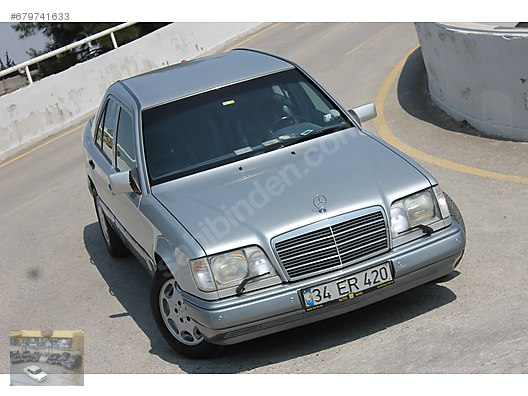mercedes: (83, 45, 469, 360)
